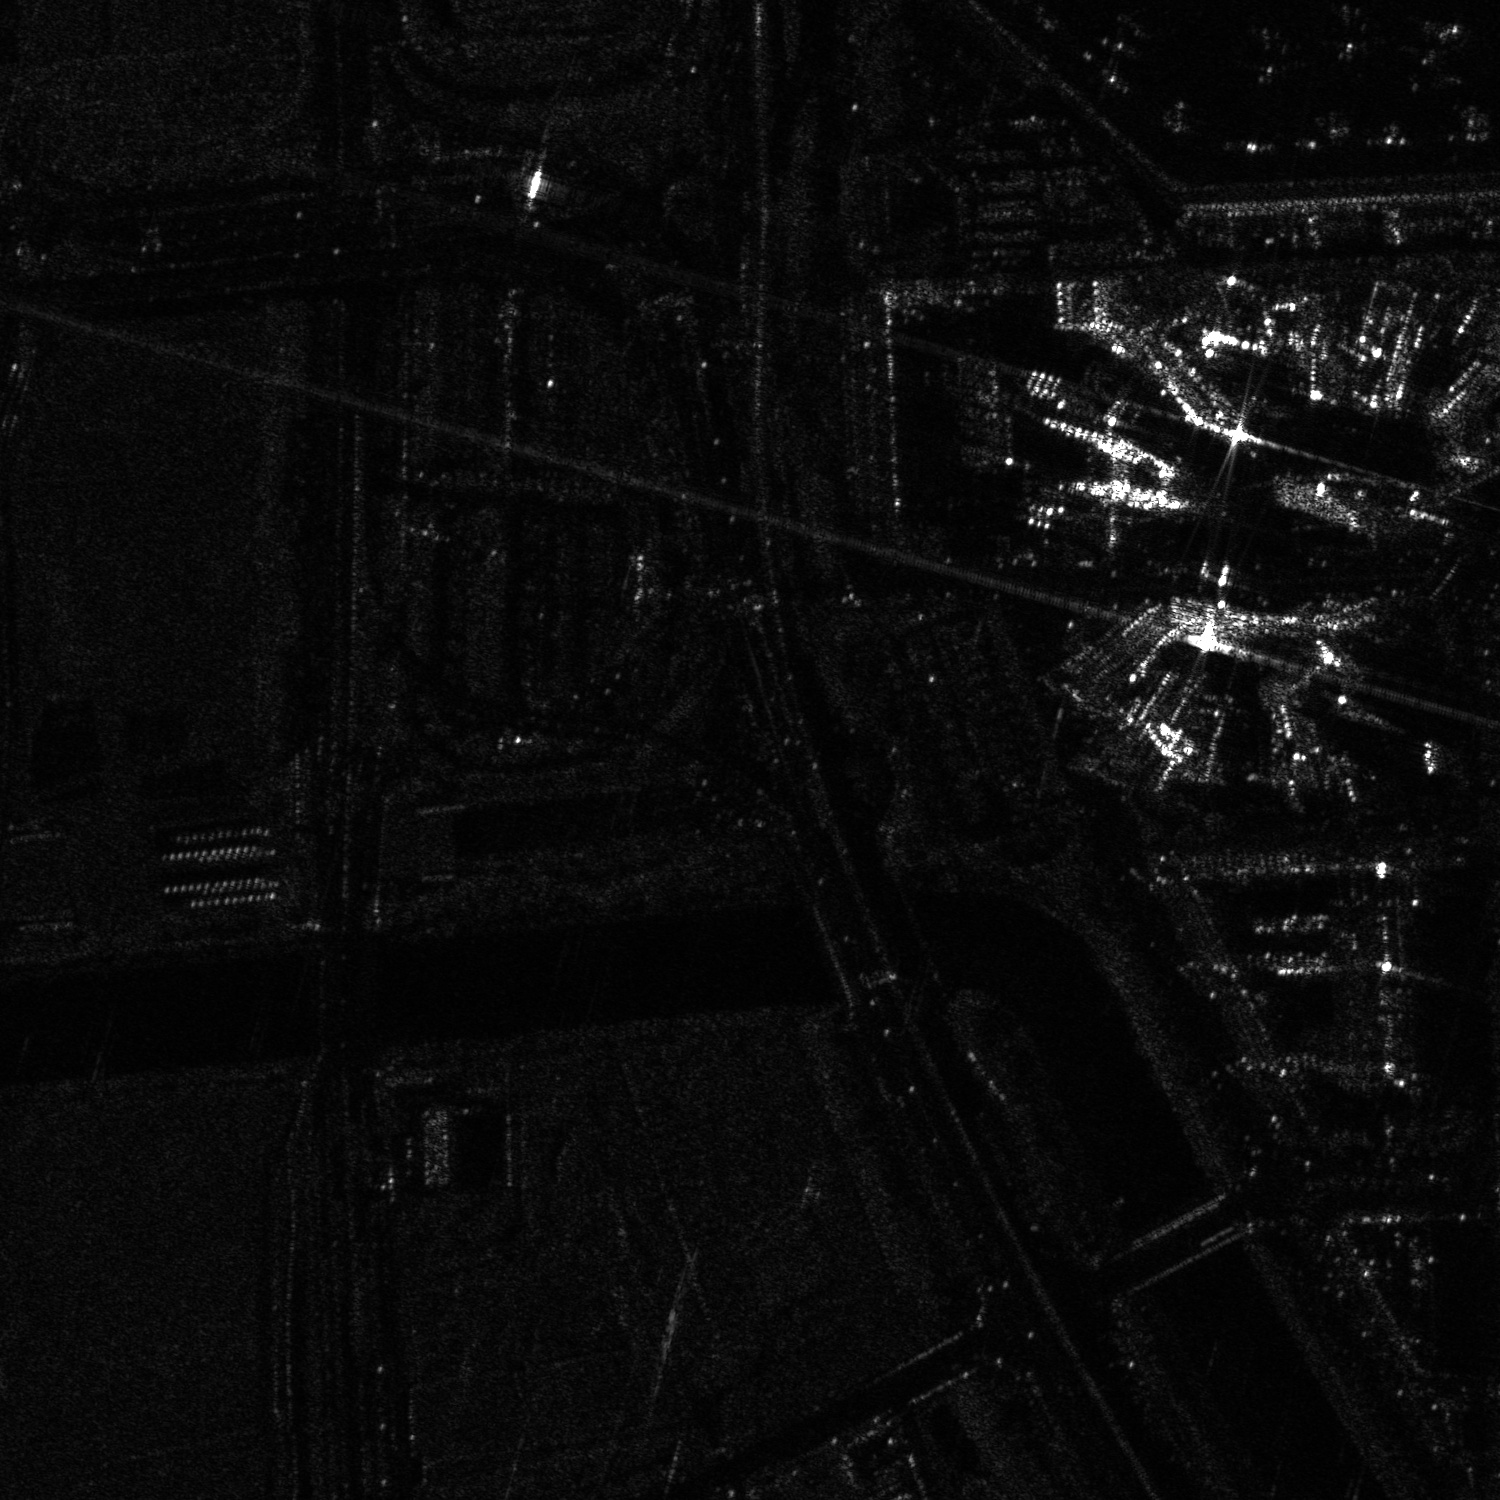A220: (1319, 3, 1396, 76)
Boeing737: (1231, 27, 1316, 93)
other: (1402, 18, 1467, 93)
